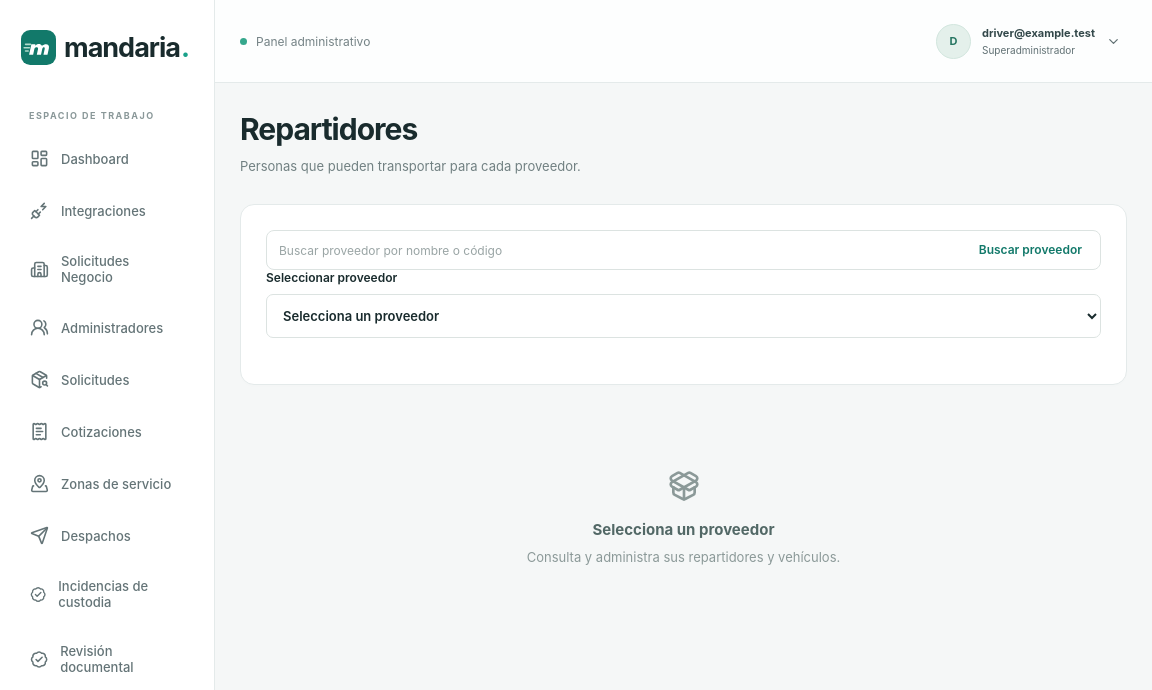
Test: scope and permissions › SUPER_ADMIN explicitly selects provider; no collection scan
Select "Proveedor A" in the dropdown labelled "Seleccionar proveedor" at (684,316), box [266,294,1101,338]
(page scrolled)
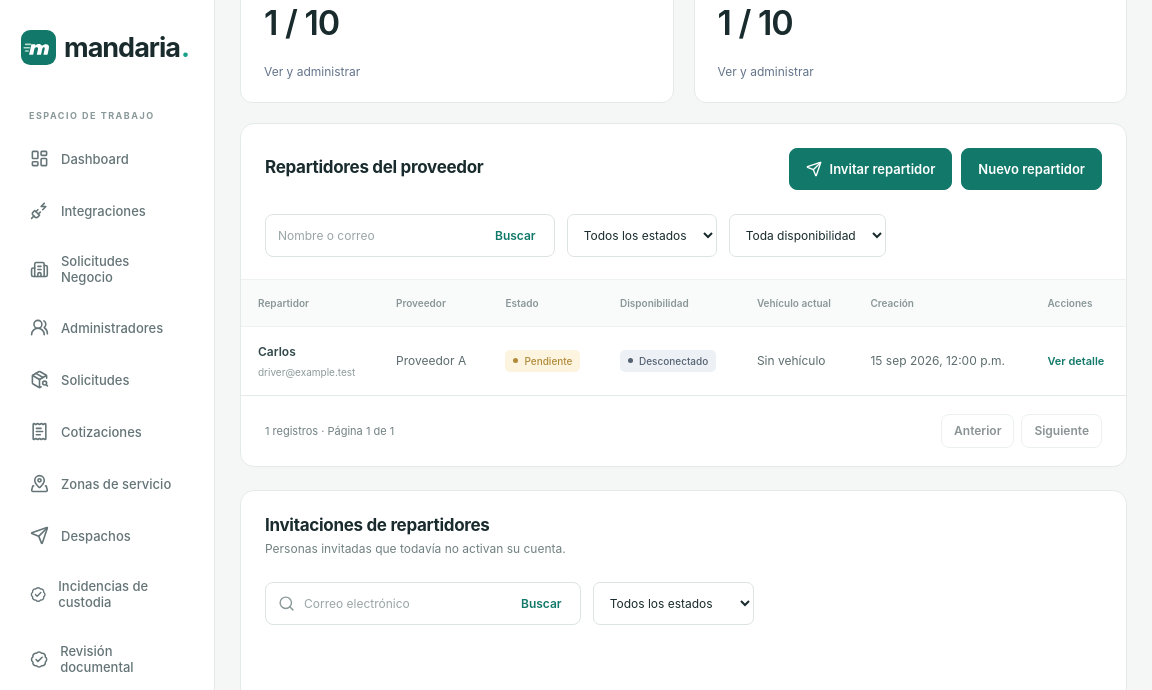
Result: the link "Carlos driver@example.test" is shown at [258,344,362,378]
